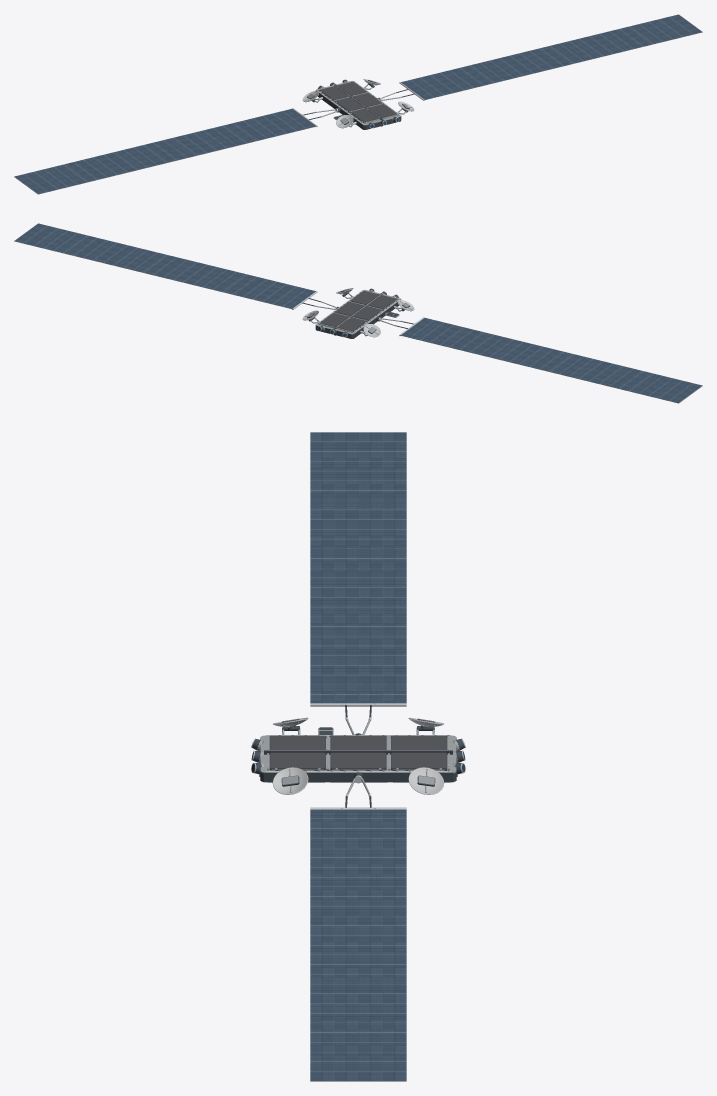
File: starlink_v3.glb
The picture shows the model from 3 angles, top to bottom: view 1: azimuth 30°, elevation 25°; view 2: azimuth 150°, elevation 25°; view 3: azimuth 270°, elevation 25°; orthographic projection. The views are drawn at different scales.
Visible parts, largest first — view 1: Solar wing - Photovoltaic blanket (×2), Solar wing - Satin aluminium frame (×2), Bus frame and service deck - Satin aluminium frame, Bus frame and service deck - Graphite equipment housing; view 2: Solar wing - Photovoltaic blanket (×2), Solar wing - Satin aluminium frame (×2), Bus frame and service deck - Satin aluminium frame, Bus frame and service deck - Graphite equipment housing; view 3: Solar wing - Photovoltaic blanket (×2), Bus frame and service deck - Graphite equipment housing, Bus frame and service deck - Satin aluminium frame.
Boxes of the visible parts, x1,y1,x2,y2 form: Solar wing - Photovoltaic blanket (×2): [14, 14, 702, 193]; Solar wing - Satin aluminium frame (×2): [14, 15, 702, 194]; Bus frame and service deck - Satin aluminium frame: [315, 81, 400, 126]; Bus frame and service deck - Graphite equipment housing: [318, 81, 401, 129]; Solar wing - Photovoltaic blanket (×2): [14, 223, 702, 402]; Solar wing - Satin aluminium frame (×2): [14, 224, 702, 403]; Bus frame and service deck - Satin aluminium frame: [316, 290, 401, 335]; Bus frame and service deck - Graphite equipment housing: [315, 292, 398, 338]; Solar wing - Photovoltaic blanket (×2): [310, 432, 406, 1080]; Bus frame and service deck - Graphite equipment housing: [259, 735, 457, 782]; Bus frame and service deck - Satin aluminium frame: [260, 735, 456, 782].
Bounding box in the file's own units: 45.3 × 0.7545 × 6.32.
11 materials, 2 textured.
